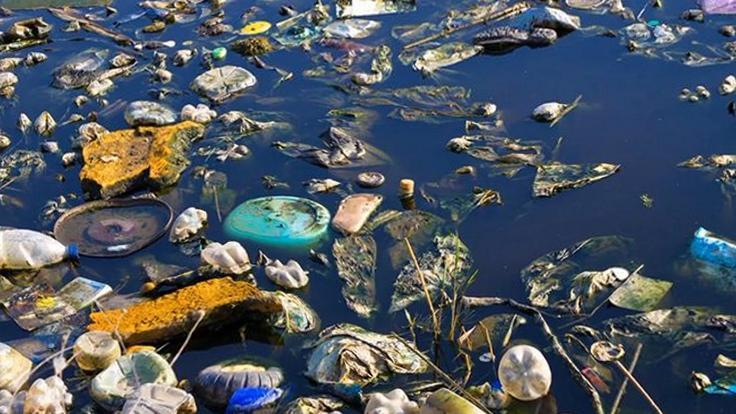Plastic Pollution: (6, 0, 649, 397)
